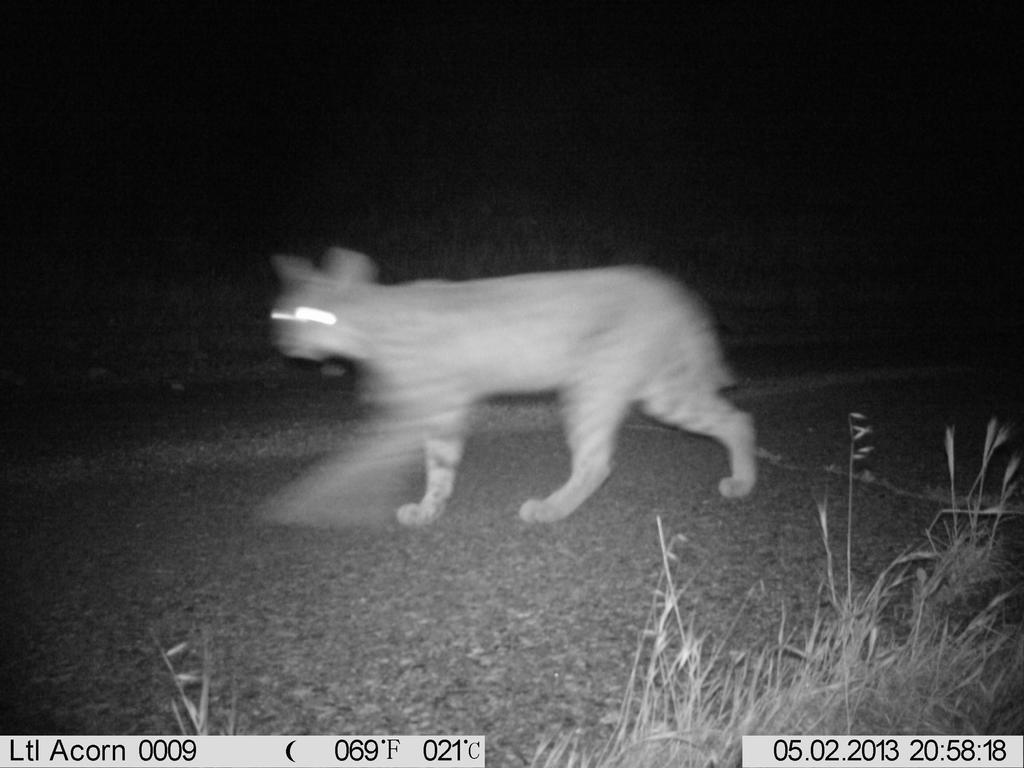bobcat: (244, 229, 786, 534)
